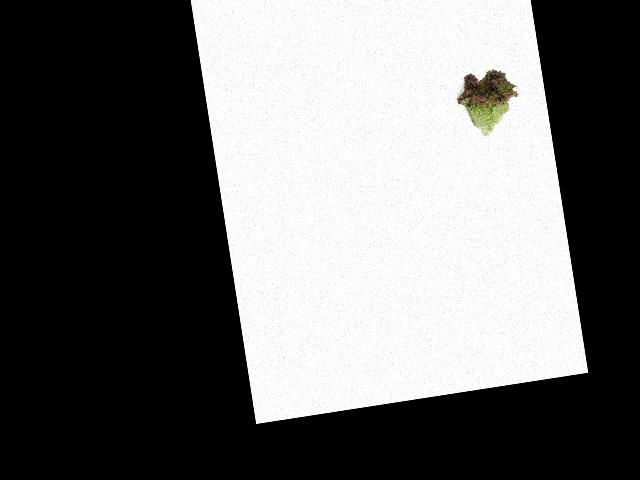lettuce: (446, 57, 526, 141)
